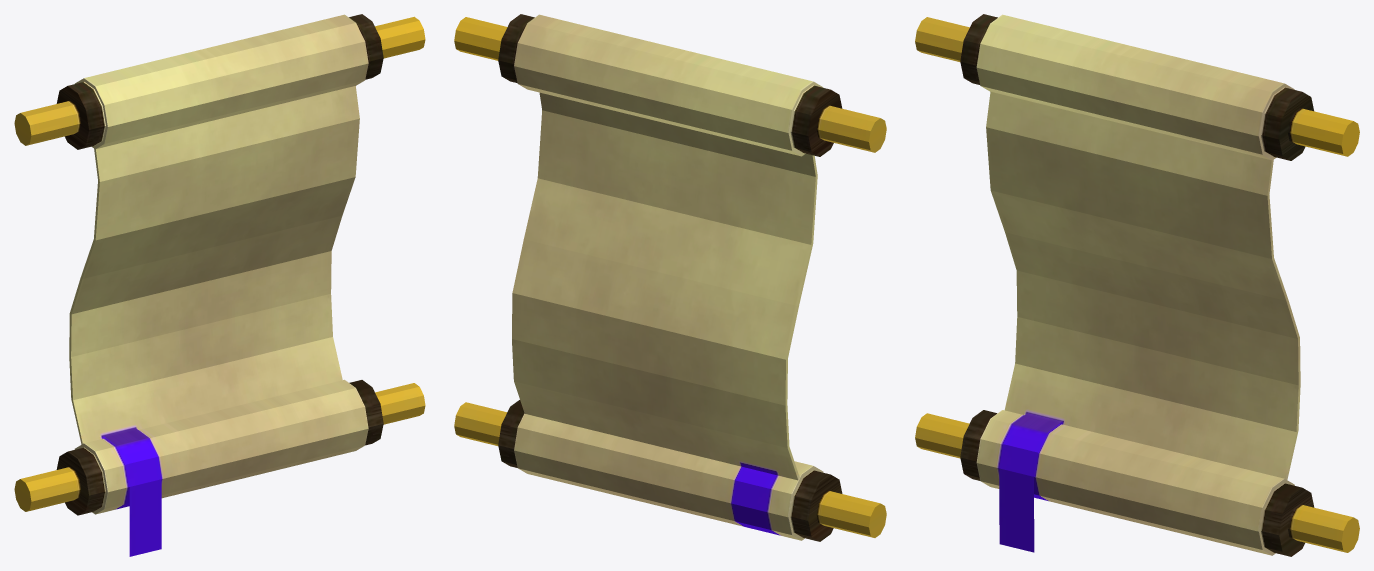
File: relic-scroll-oga.glb
3 views of the same model, side by side, from view 1: azimuth 30°, elevation 25°; view 2: azimuth 150°, elevation 25°; view 3: azimuth 330°, elevation 25° (orthographic). The views are drawn at different scales.
Visible parts, largest first — view 1: Cylinder.002_Cylinder.003; view 2: Cylinder.002_Cylinder.003; view 3: Cylinder.002_Cylinder.003.
Boxes of the visible parts, x1,y1,x2,y2 form: Cylinder.002_Cylinder.003: (14, 14, 425, 556); Cylinder.002_Cylinder.003: (454, 14, 886, 541); Cylinder.002_Cylinder.003: (915, 14, 1359, 556).
Size of the model in its own units: 1.05 by 1.19 by 0.1822.
1 material, 1 textured.
